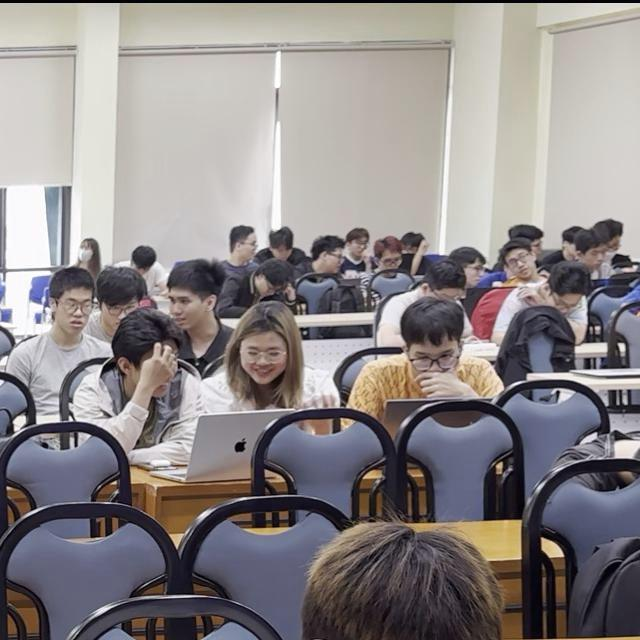Looking away: (239, 333, 286, 386), (409, 340, 461, 381), (55, 293, 94, 338), (167, 287, 202, 332)
